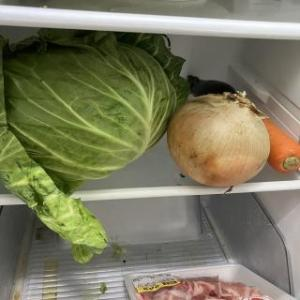cabbage: (0, 27, 192, 265)
carrot: (256, 114, 300, 176)
eggplant: (188, 74, 240, 100)
onion: (166, 90, 272, 194)
